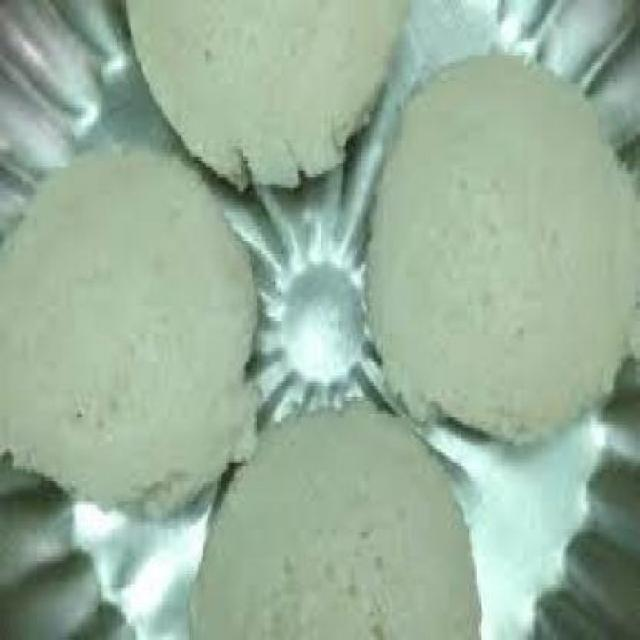idli: (369, 57, 640, 446), (0, 151, 257, 518), (189, 398, 482, 640), (126, 0, 403, 188)
